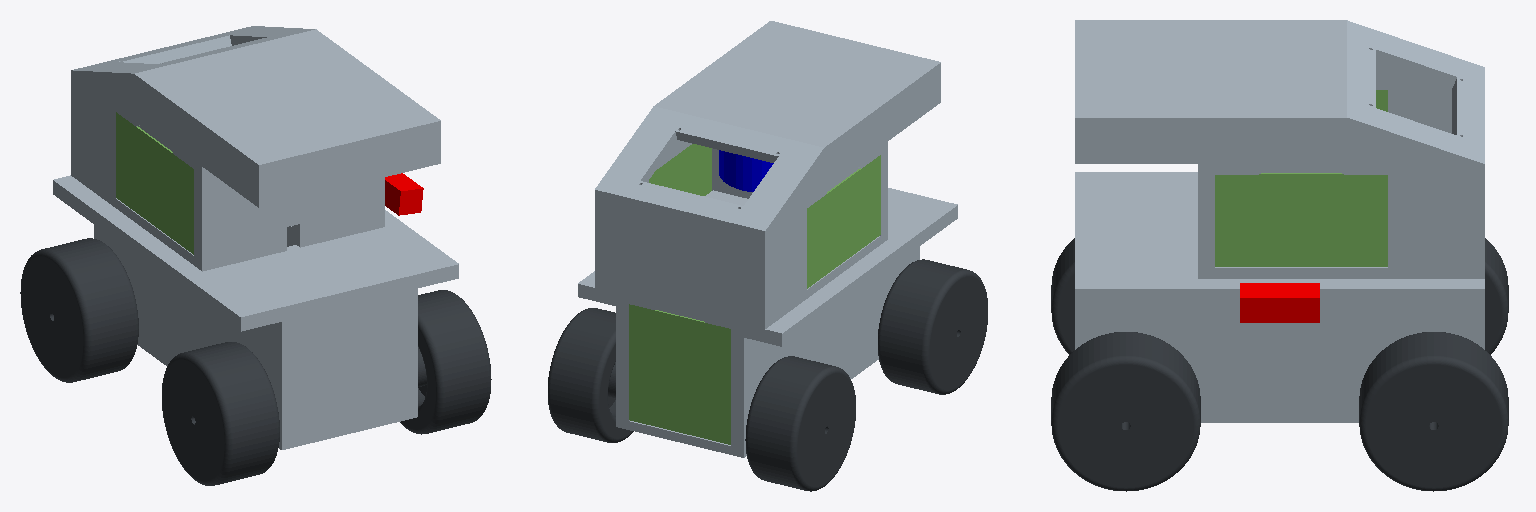
URDF robot description (fuze):
<?xml version="1.0" ?>
<robot name="fuze" xmlns:xacro="http://www.ros.org/wiki/xacro">
  <link name="base_link">
    <inertial>
      <origin xyz="0 0 0" rpy="0 0 0"/>
      <mass value="1e-09"/>
      <inertia ixx="1e-09" ixy="0" ixz="0" iyy="1e-09" iyz="0" izz="1e-09"/>
    </inertial>
    <visual>
      <origin xyz="0.078 -0.134063 0.03" rpy="1.5708 -0 -1.5708"/>
      <geometry>
        <mesh filename="package://fuze-bot/meshes/wheel_connector.stl"/>
      </geometry>
      <material name="wheel_connector_material">
        <color rgba="0.262745 0.282353 0.301961 1.0"/>
      </material>
    </visual>
    <collision>
      <origin xyz="0.078 -0.134063 0.03" rpy="1.5708 -0 -1.5708"/>
      <geometry>
        <mesh filename="package://fuze-bot/meshes/wheel_connector.stl"/>
      </geometry>
    </collision>
    <visual>
      <origin xyz="2.77556e-17 0.17675 0.0761001" rpy="-1.5708 -0 0"/>
      <geometry>
        <mesh filename="package://fuze-bot/meshes/down_windows.stl"/>
      </geometry>
      <material name="down_windows_material">
        <color rgba="0.513725 0.737255 0.407843 1.0"/>
      </material>
    </visual>
    <collision>
      <origin xyz="2.77556e-17 0.17675 0.0761001" rpy="-1.5708 -0 0"/>
      <geometry>
        <mesh filename="package://fuze-bot/meshes/down_windows.stl"/>
      </geometry>
    </collision>
    <visual>
      <origin xyz="-0.098 0.01875 0.205996" rpy="-1.5708 -2.35347e-17 1.5708"/>
      <geometry>
        <mesh filename="package://fuze-bot/meshes/top_windows.stl"/>
      </geometry>
      <material name="top_windows_material">
        <color rgba="0.513725 0.737255 0.407843 1.0"/>
      </material>
    </visual>
    <collision>
      <origin xyz="-0.098 0.01875 0.205996" rpy="-1.5708 -2.35347e-17 1.5708"/>
      <geometry>
        <mesh filename="package://fuze-bot/meshes/top_windows.stl"/>
      </geometry>
    </collision>
    <visual>
      <origin xyz="-0.1 0.05375 0.15" rpy="1.5708 -2.35347e-17 1.5708"/>
      <geometry>
        <mesh filename="package://fuze-bot/meshes/body_top.stl"/>
      </geometry>
      <material name="body_top_material">
        <color rgba="0.713 0.76078 0.8 1.0"/>
      </material>
    </visual>
    <collision>
      <origin xyz="-0.1 0.05375 0.15" rpy="1.5708 -2.35347e-17 1.5708"/>
      <geometry>
        <mesh filename="package://fuze-bot/meshes/body_top.stl"/>
      </geometry>
    </collision>
    <visual>
      <origin xyz="0.098 0.01875 0.205996" rpy="1.5708 -2.35347e-17 1.5708"/>
      <geometry>
        <mesh filename="package://fuze-bot/meshes/top_windows.stl"/>
      </geometry>
      <material name="top_windows_2_material">
        <color rgba="0.513725 0.737255 0.407843 1.0"/>
      </material>
    </visual>
    <collision>
      <origin xyz="0.098 0.01875 0.205996" rpy="1.5708 -2.35347e-17 1.5708"/>
      <geometry>
        <mesh filename="package://fuze-bot/meshes/top_windows.stl"/>
      </geometry>
    </collision>
    <visual>
      <origin xyz="0.078 0.134063 0.03" rpy="1.5708 -0 -1.5708"/>
      <geometry>
        <mesh filename="package://fuze-bot/meshes/wheel_connector.stl"/>
      </geometry>
      <material name="wheel_connector_2_material">
        <color rgba="0.262745 0.282353 0.301961 1.0"/>
      </material>
    </visual>
    <collision>
      <origin xyz="0.078 0.134063 0.03" rpy="1.5708 -0 -1.5708"/>
      <geometry>
        <mesh filename="package://fuze-bot/meshes/wheel_connector.stl"/>
      </geometry>
    </collision>
    <visual>
      <origin xyz="-0.078 0.134063 0.03" rpy="1.5708 -0 1.5708"/>
      <geometry>
        <mesh filename="package://fuze-bot/meshes/wheel_connector.stl"/>
      </geometry>
      <material name="wheel_connector_3_material">
        <color rgba="0.262745 0.282353 0.301961 1.0"/>
      </material>
    </visual>
    <collision>
      <origin xyz="-0.078 0.134063 0.03" rpy="1.5708 -0 1.5708"/>
      <geometry>
        <mesh filename="package://fuze-bot/meshes/wheel_connector.stl"/>
      </geometry>
    </collision>
    <visual>
      <origin xyz="-0.078 -0.134062 0.03" rpy="1.5708 -0 1.5708"/>
      <geometry>
        <mesh filename="package://fuze-bot/meshes/wheel_connector.stl"/>
      </geometry>
      <material name="wheel_connector_4_material">
        <color rgba="0.262745 0.282353 0.301961 1.0"/>
      </material>
    </visual>
    <collision>
      <origin xyz="-0.078 -0.134062 0.03" rpy="1.5708 -0 1.5708"/>
      <geometry>
        <mesh filename="package://fuze-bot/meshes/wheel_connector.stl"/>
      </geometry>
    </collision>
    <visual>
      <origin xyz="0 0.17875 0.0772241" rpy="0 -0 0"/>
      <geometry>
        <mesh filename="package://fuze-bot/meshes/base_link.stl"/>
      </geometry>
      <material name="base_link_material">
        <color rgba="0.713725 0.760784 0.8 1.0"/>
      </material>
    </visual>
    <collision>
      <origin xyz="0 0.17875 0.0772241" rpy="0 -0 0"/>
      <geometry>
        <mesh filename="package://fuze-bot/meshes/base_link.stl"/>
      </geometry>
    </collision>
  </link>

  <link name="wheel">
    <inertial>
      <origin xyz="0 0 0" rpy="0 0 0"/>
      <mass value="1e-09"/>
      <inertia ixx="1e-09" ixy="0" ixz="0" iyy="1e-09" iyz="0" izz="1e-09"/>
    </inertial>
    <visual>
      <origin xyz="0 0 -0.035" rpy="0 -0 0"/>
      <geometry>
        <mesh filename="package://fuze-bot/meshes/wheel.stl"/>
      </geometry>
      <material name="wheel_material">
        <color rgba="0.262745 0.282353 0.301961 1.0"/>
      </material>
    </visual>
    <collision>
      <origin xyz="0 0 -0.035" rpy="0 -0 0"/>
      <geometry>
        <mesh filename="package://fuze-bot/meshes/wheel.stl"/>
      </geometry>
    </collision>
  </link>
  <joint name="right_rear" type="revolute">
    <origin xyz="-0.111 0.134063 0.03" rpy="-3.14159 -1.5708 0"/>
    <parent link="base_link"/>
    <child link="wheel"/>
    <axis xyz="0 0 1"/>
    <limit effort="10" velocity="10" lower="-3.141592653589793" upper="3.141592653589793"/>
  </joint>

  <link name="wheel_2">
    <inertial>
      <origin xyz="0 0 0" rpy="0 0 0"/>
      <mass value="1e-09"/>
      <inertia ixx="1e-09" ixy="0" ixz="0" iyy="1e-09" iyz="0" izz="1e-09"/>
    </inertial>
    <visual>
      <origin xyz="0 0 -0.035" rpy="0 -0 0"/>
      <geometry>
        <mesh filename="package://fuze-bot/meshes/wheel.stl"/>
      </geometry>
      <material name="wheel_2_material">
        <color rgba="0.262745 0.282353 0.301961 1.0"/>
      </material>
    </visual>
    <collision>
      <origin xyz="0 0 -0.035" rpy="0 -0 0"/>
      <geometry>
        <mesh filename="package://fuze-bot/meshes/wheel.stl"/>
      </geometry>
    </collision>
  </link>
  <joint name="right_front" type="revolute">
    <origin xyz="-0.111 -0.134062 0.03" rpy="-3.14159 -1.5708 0"/>
    <parent link="base_link"/>
    <child link="wheel_2"/>
    <axis xyz="0 0 1"/>
    <limit effort="10" velocity="10" lower="-3.141592653589793" upper="3.141592653589793"/>
  </joint>

  <link name="wheel_3">
    <inertial>
      <origin xyz="0 0 0" rpy="0 0 0"/>
      <mass value="1e-09"/>
      <inertia ixx="1e-09" ixy="0" ixz="0" iyy="1e-09" iyz="0" izz="1e-09"/>
    </inertial>
    <visual>
      <origin xyz="0 0 -0.035" rpy="0 -0 0"/>
      <geometry>
        <mesh filename="package://fuze-bot/meshes/wheel.stl"/>
      </geometry>
      <material name="wheel_3_material">
        <color rgba="0.262745 0.282353 0.301961 1.0"/>
      </material>
    </visual>
    <collision>
      <origin xyz="0 0 -0.035" rpy="0 -0 0"/>
      <geometry>
        <mesh filename="package://fuze-bot/meshes/wheel.stl"/>
      </geometry>
    </collision>
  </link>
  <joint name="left_rear" type="revolute">
    <origin xyz="0.111 0.134063 0.03" rpy="-3.14159 1.5708 0"/>
    <parent link="base_link"/>
    <child link="wheel_3"/>
    <axis xyz="0 0 1"/>
    <limit effort="10" velocity="10" lower="-3.141592653589793" upper="3.141592653589793"/>
  </joint>

  <link name="wheel_4">
    <inertial>
      <origin xyz="0 0 0" rpy="0 0 0"/>
      <mass value="1e-09"/>
      <inertia ixx="1e-09" ixy="0" ixz="0" iyy="1e-09" iyz="0" izz="1e-09"/>
    </inertial>
    <visual>
      <origin xyz="0 0 -0.035" rpy="0 -0 0"/>
      <geometry>
        <mesh filename="package://fuze-bot/meshes/wheel.stl"/>
      </geometry>
      <material name="wheel_4_material">
        <color rgba="0.262745 0.282353 0.301961 1.0"/>
      </material>
    </visual>
    <collision>
      <origin xyz="0 0 -0.035" rpy="0 -0 0"/>
      <geometry>
        <mesh filename="package://fuze-bot/meshes/wheel.stl"/>
      </geometry>
    </collision>
  </link>
  <joint name="left_front" type="revolute">
    <origin xyz="0.111 -0.134063 0.03" rpy="-3.14159 1.5708 0"/>
    <parent link="base_link"/>
    <child link="wheel_4"/>
    <axis xyz="0 0 1"/>
    <limit effort="10" velocity="10" lower="-3.141592653589793" upper="3.141592653589793"/>
  </joint>

  <link name="camera_link">
    <visual>
      <origin xyz="0 0 0" rpy="0 0 0"/>
      <geometry>
        <box size="0.025 0.07 0.025"/> </geometry>
      <material name="red_material"> <color rgba="1 0 0 1"/>
      </material>
    </visual>
    <collision>
      <origin xyz="0 0 0" rpy="0 0 0"/>
      <geometry>
        <box size="0.025 0.07 0.025"/>
      </geometry>
    </collision>
    <inertial>
      <mass value="0.01"/>
      <origin xyz="0 0 0" rpy="0 0 0"/>
      <inertia ixx="1e-6" ixy="0" ixz="0" iyy="1e-6" iyz="0" izz="1e-6"/>
    </inertial>
  </link>

  <joint name="camera_joint" type="fixed">
    <parent link="base_link"/>
    <child link="camera_link"/>
    <origin xyz="0.15 0 0.15" rpy="0 0.1 0"/>
  </joint>

  <gazebo reference="camera_link">
    <sensor type="camera" name="robot_camera_sensor">
      <update_rate>30.0</update_rate>
      <camera name="head">
        <horizontal_fov>1.39626</horizontal_fov> <image>
          <width>800</width>
          <height>600</height>
          <format>R8G8B8</format>
        </image>
        <clip>
          <near>0.02</near>
          <far>300</far>
        </clip>
        <noise>
          <type>gaussian</type>
          <mean>0.0</mean>
          <stddev>0.007</stddev>
        </noise>
      </camera>
      <plugin name="camera_controller" filename="libgazebo_ros_camera.so">
        <ros>
            <namespace>/fuze_bot</namespace> <camera_info_topic>camera/camera_info</camera_info_topic>
            <image_topic>camera/image_raw</image_topic>
            <frame_name>camera_link_optical</frame_name>
        </ros>
        <hack_baseline>0.0</hack_baseline>
      </plugin>
    </sensor>
  </gazebo>

  <link name="camera_link_optical"/>
  <joint name="camera_optical_joint" type="fixed">
    <parent link="camera_link"/>
    <child link="camera_link_optical"/>
    <origin xyz="0 0 0" rpy="-1.57079632679 0 -1.57079632679"/>
  </joint>

  <link name="lidar_link">
    <visual>
      <origin xyz="0 0 0" rpy="0 0 0"/>
      <geometry>
        <cylinder radius="0.05" length="0.04"/> </geometry>
      <material name="blue_material"> <color rgba="0 0 1 1"/>
      </material>
    </visual>
    <collision>
      <origin xyz="0 0 0" rpy="0 0 0"/>
      <geometry>
        <cylinder radius="0.05" length="0.04"/>
      </geometry>
    </collision>
    <inertial>
      <mass value="0.1"/>
      <origin xyz="0 0 0" rpy="0 0 0"/>
      <inertia ixx="1e-4" ixy="0" ixz="0" iyy="1e-4" iyz="0" izz="1e-4"/>
    </inertial>
  </link>

  <joint name="lidar_joint" type="fixed">
    <parent link="base_link"/>
    <child link="lidar_link"/>
    <origin xyz="0 0 0.25" rpy="0 0 0"/>
  </joint>

  <gazebo reference="lidar_link">
    <sensor type="ray" name="robot_lidar_sensor">
      <pose>0 0 0 0 0 0</pose>
      <visualize>true</visualize>
      <update_rate>10</update_rate>
      <ray>
        <scan>
          <horizontal>
            <samples>720</samples>
            <resolution>1</resolution>
            <min_angle>-3.14159</min_angle>
            <max_angle>3.14159</max_angle>
          </horizontal>
        </scan>
        <range>
          <min>0.10</min>
          <max>12.0</max>
          <resolution>0.01</resolution>
        </range>
        <noise>
          <type>gaussian</type>
          <mean>0.0</mean>
          <stddev>0.01</stddev>
        </noise>
      </ray>
      <plugin name="lidar_controller" filename="libgazebo_ros_ray_sensor.so">
        <ros>
            <namespace>/fuze_bot</namespace> <argument>~/out:=lidar/scan</argument>
        </ros>
        <output_type>sensor_msgs/LaserScan</output_type>
        <frame_name>lidar_link</frame_name>
      </plugin>
    </sensor>
  </gazebo>

</robot>

--- What the picture shows (computed from the rendered views, not written in the file) ---
3 views of the same robot in one strip: view 1: azimuth 30°, elevation 25°; view 2: azimuth 150°, elevation 25°; view 3: azimuth 270°, elevation 25° (orthographic).
Robot: fuze — 8 links, 7 joints (4 revolute, 3 fixed); root link base_link; default pose: all joints at 0.
Visible links, largest first — view 1: base_link, wheel, wheel_2, wheel_4, camera_link; view 2: base_link, wheel, wheel_2, wheel_3, lidar_link; view 3: base_link, wheel_3, wheel_4, camera_link, wheel, wheel_2.
Link boxes in pixels (x1,y1,x2,y2): base_link: (53,26,458,449); wheel: (20,238,138,382); wheel_2: (162,342,279,485); wheel_4: (400,290,491,434); camera_link: (385,173,423,215); base_link: (578,21,957,457); wheel: (745,356,855,491); wheel_2: (878,259,987,394); wheel_3: (548,308,633,442); lidar_link: (719,150,773,191); base_link: (1075,20,1484,422); wheel_3: (1359,332,1508,491); wheel_4: (1051,332,1200,491); camera_link: (1240,283,1319,322); wheel: (1485,238,1508,354); wheel_2: (1051,238,1074,354).
Size in the robot's own frame: 0.3097 by 0.3981 by 0.34 metres.
Meshes: 6 distinct files referenced, 13 mesh visuals loaded (6 binary STL).
